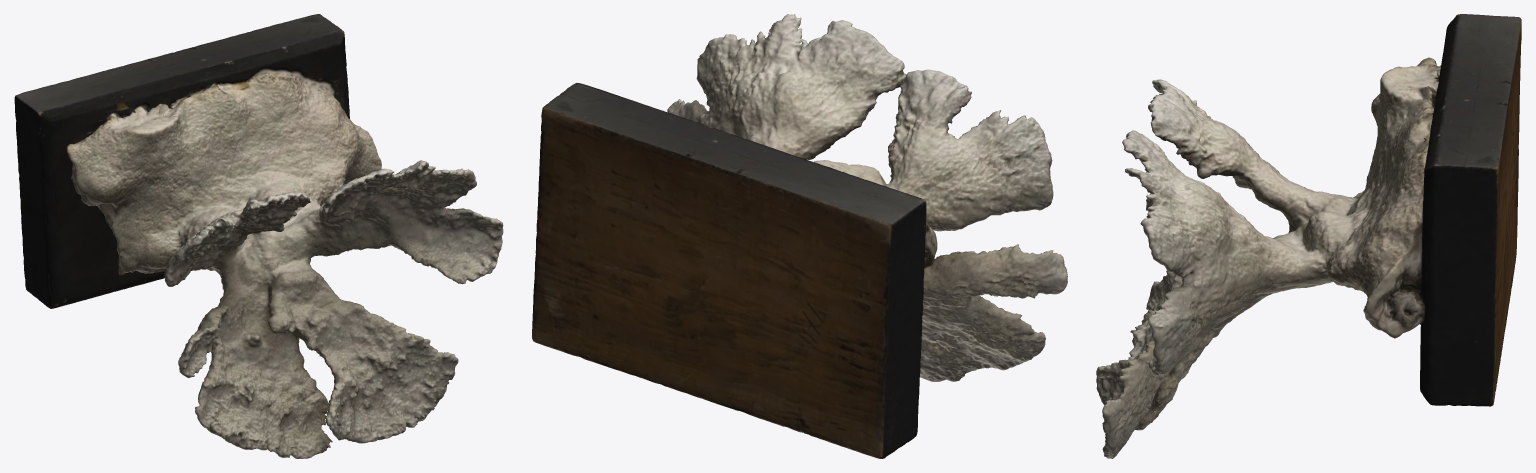
The picture shows the model from 3 angles, left to right: view 1: azimuth 30°, elevation 25°; view 2: azimuth 150°, elevation 25°; view 3: azimuth 270°, elevation 25°; orthographic projection. The views are drawn at different scales.
Parts seen in each view (by area): view 1: tamanho; view 2: tamanho; view 3: tamanho.
Part boxes in pixels (box(x1,y1,x2,y2)): tamanho: box(14, 14, 503, 458); tamanho: box(532, 14, 1067, 458); tamanho: box(1096, 14, 1521, 458).
Bounding box in the file's own units: 10337 × 8627 × 9470.
1 material, 1 textured.
